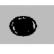correct: (7, 14, 40, 38)
